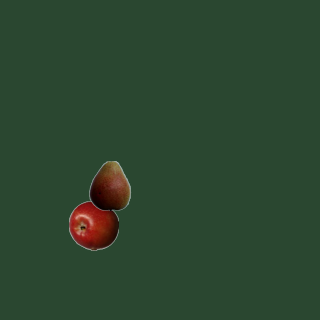Apple Braeburn: (68, 200, 118, 250)
Pear Forelle: (84, 160, 134, 210)
